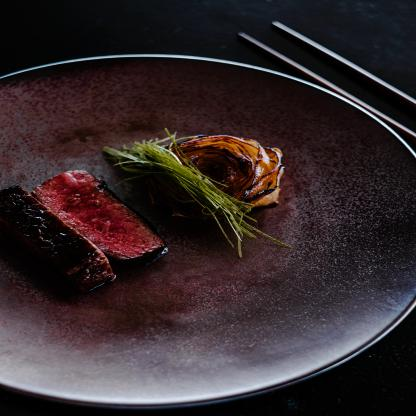Carne: (31, 165, 170, 273)
